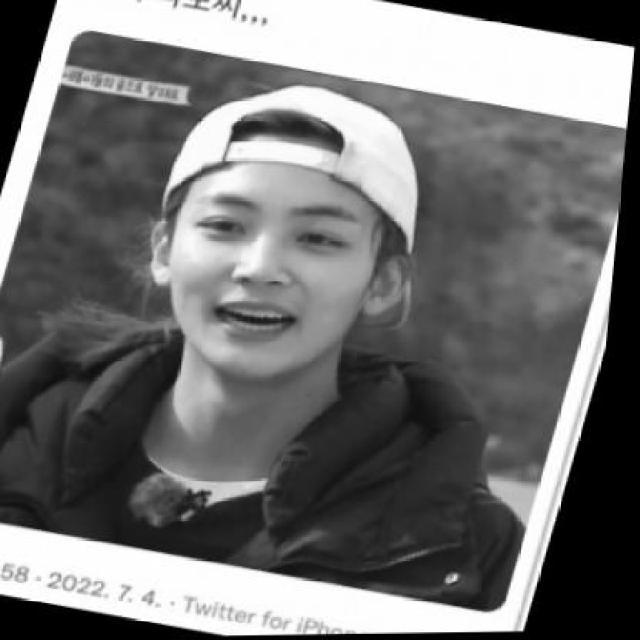hat: (167, 86, 420, 253)
